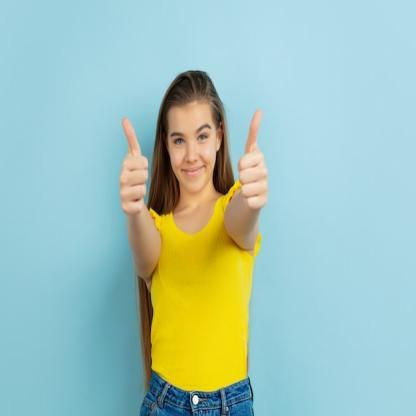thumb_up: (114, 114, 156, 218), (236, 107, 272, 215)
